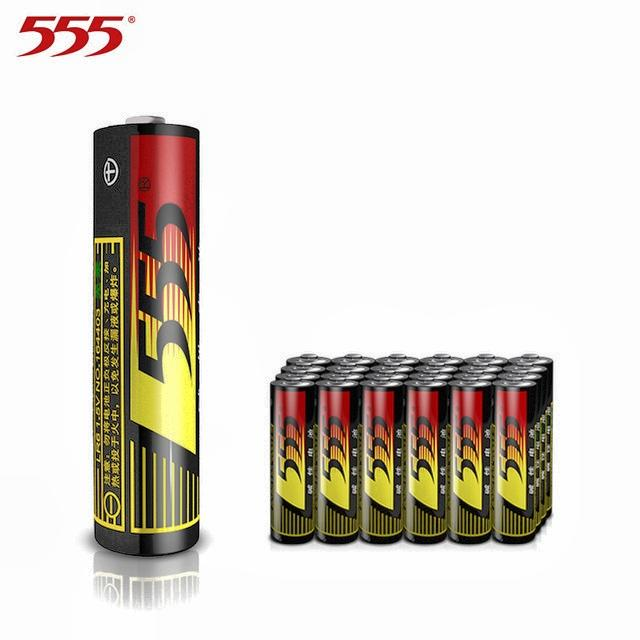Non-Valuable Waste - Batteries: (271, 354, 554, 542), (94, 118, 199, 555)
